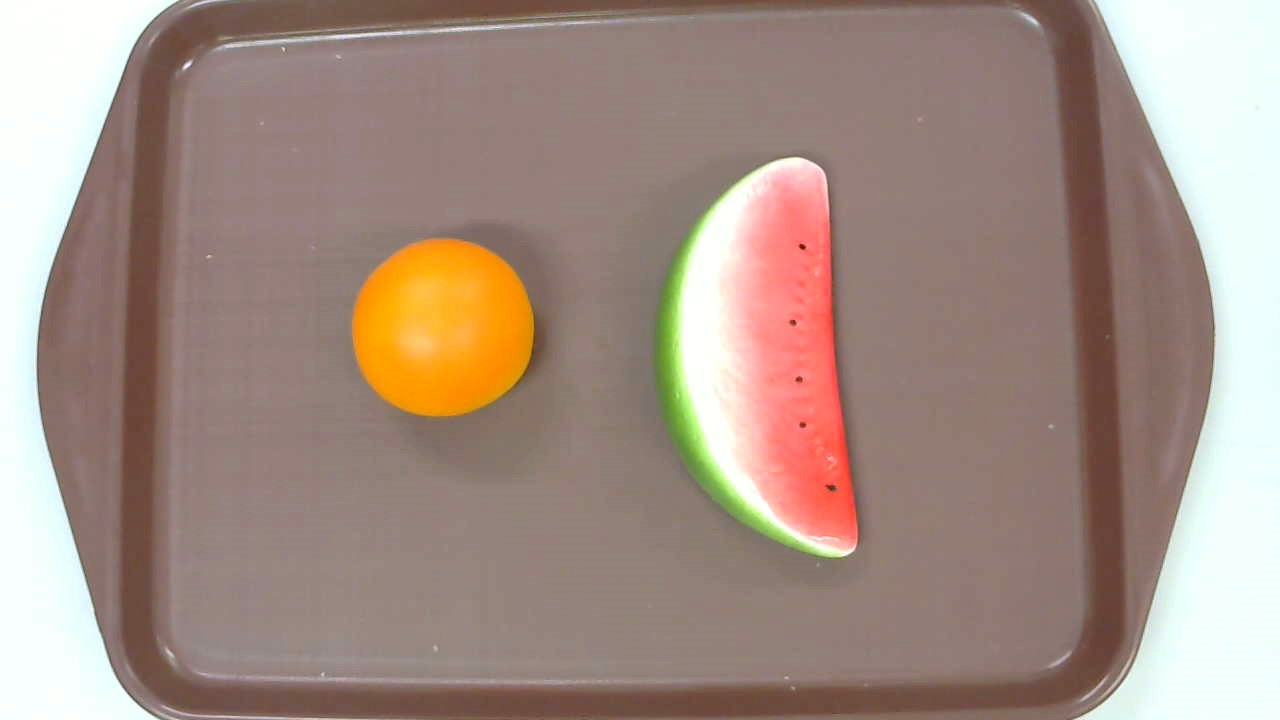bun: (352, 237, 534, 417)
water melon: (653, 156, 859, 559)
